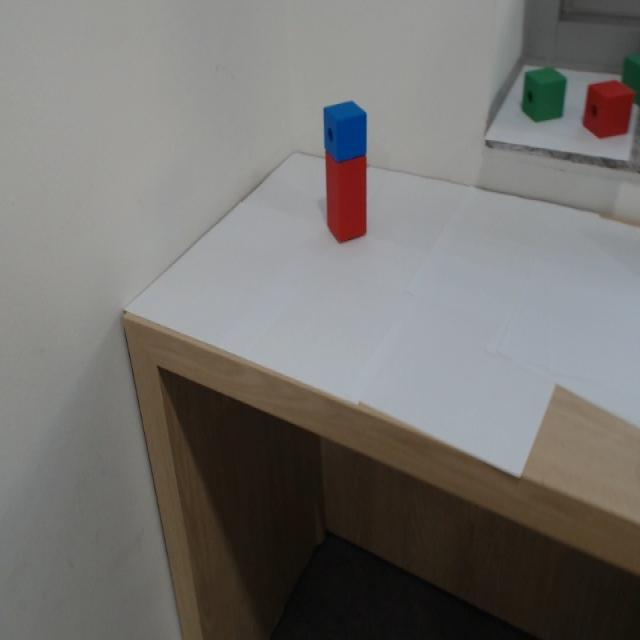cube: (313, 84, 378, 156)
